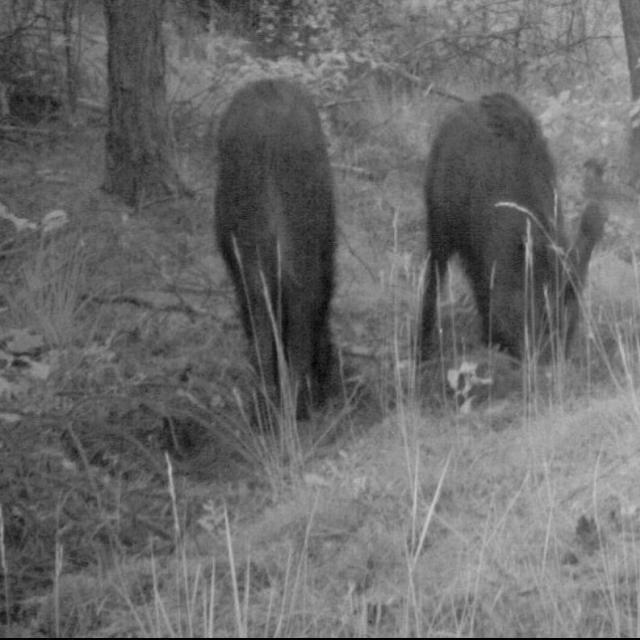pig: (414, 45, 612, 410), (198, 58, 364, 452)
